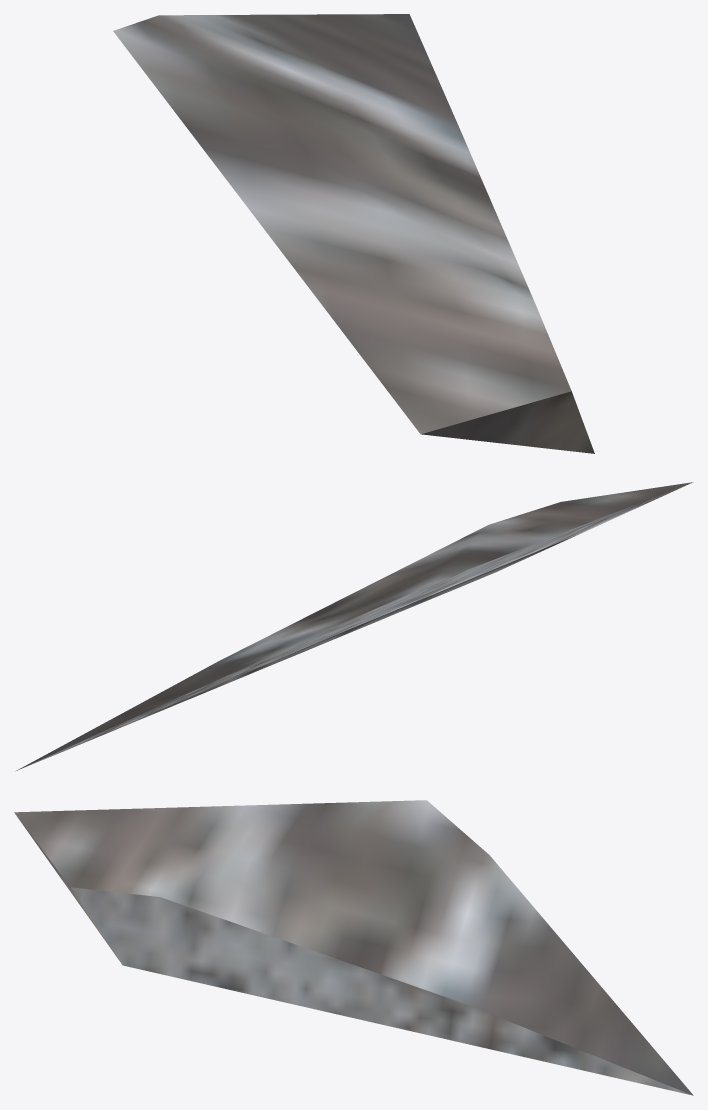
Rendered from Asteroid_Large_001_02_009_03_034.fbx.
3 renders of one model, top to bottom at view 1: azimuth 30°, elevation 25°; view 2: azimuth 150°, elevation 25°; view 3: azimuth 270°, elevation 25°, orthographic. The views are drawn at different scales.
Visible parts, largest first — view 1: Asteroid_Large_001_02_009_03_034; view 2: Asteroid_Large_001_02_009_03_034; view 3: Asteroid_Large_001_02_009_03_034.
Part boxes in pixels (x1,y1,x2,y2): Asteroid_Large_001_02_009_03_034: (113,14,594,453); Asteroid_Large_001_02_009_03_034: (15,482,693,771); Asteroid_Large_001_02_009_03_034: (14,800,693,1095).
Size of the model in its own units: 1.7 by 0.766 by 2.99.
